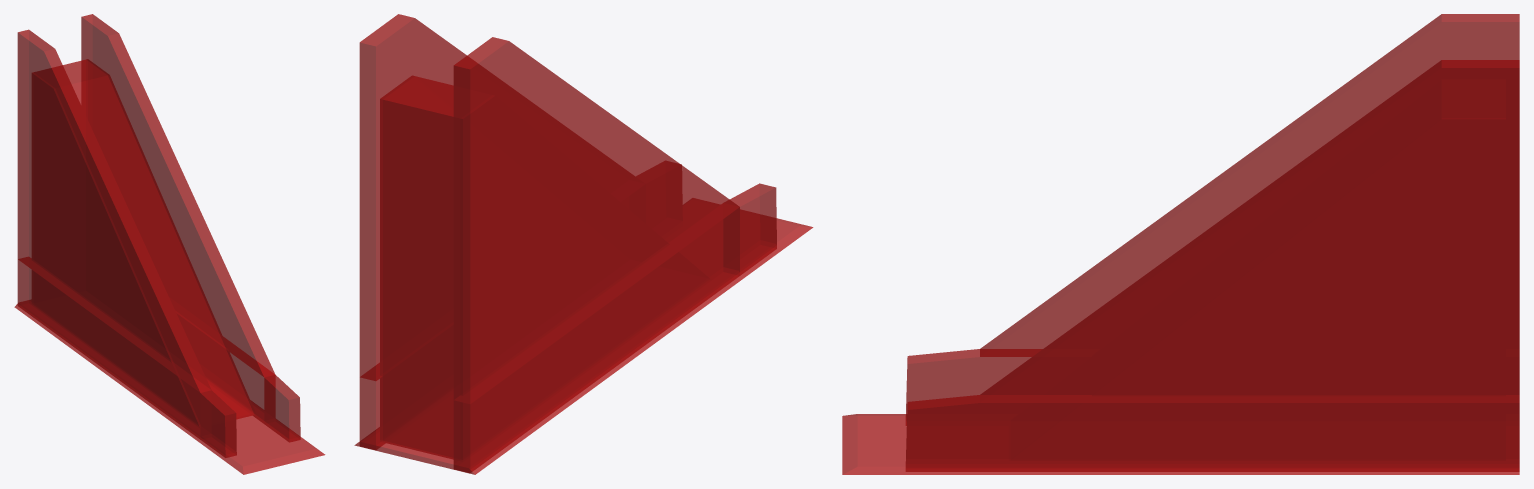
File: SM_Bld_Escalator_01_Collision.fbx
The picture shows the model from 3 angles, left to right: view 1: azimuth 30°, elevation 25°; view 2: azimuth 150°, elevation 25°; view 3: azimuth 270°, elevation 25°; orthographic projection. The views are drawn at different scales.
Parts seen in each view (by area): view 1: SM_Bld_Escalator_01_Collision; view 2: SM_Bld_Escalator_01_Collision; view 3: SM_Bld_Escalator_01_Collision.
Boxes of the visible parts, bbox=[...] form: SM_Bld_Escalator_01_Collision: bbox=[14, 14, 325, 474]; SM_Bld_Escalator_01_Collision: bbox=[354, 14, 813, 474]; SM_Bld_Escalator_01_Collision: bbox=[842, 14, 1519, 474].
Bounding box in the file's own units: 218 × 694 × 1054.
